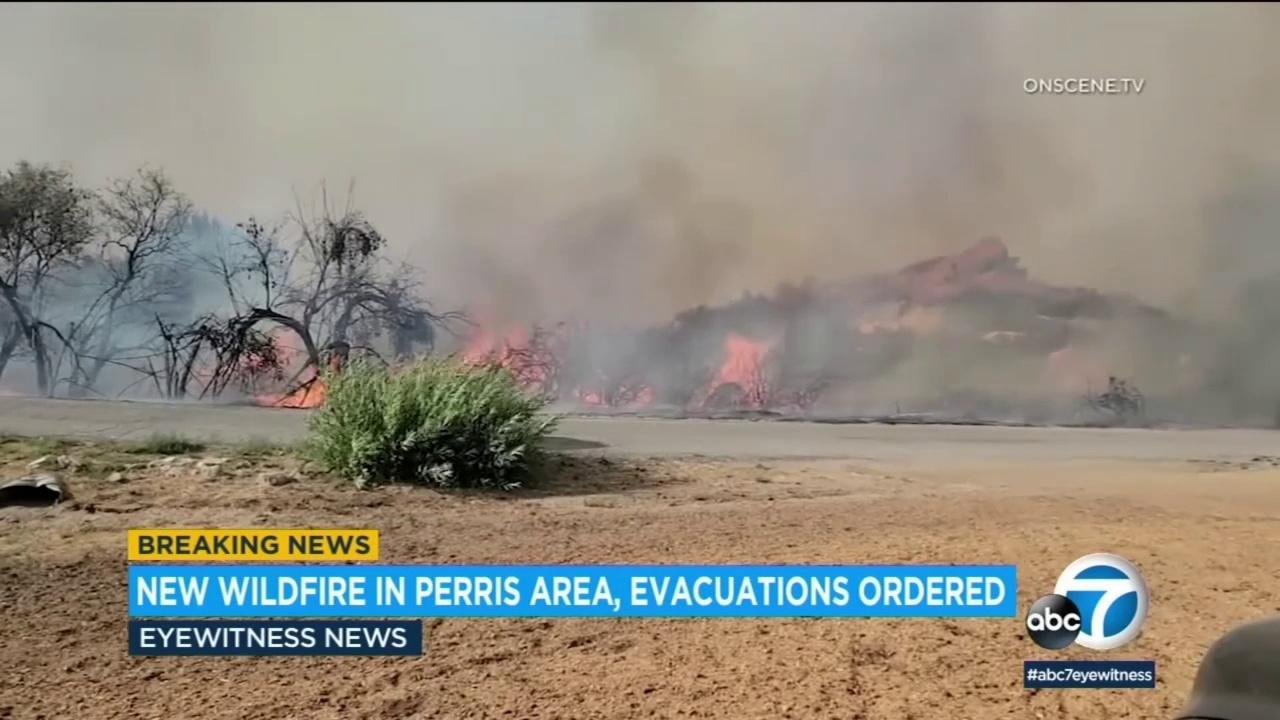fire: (464, 323, 550, 392), (706, 330, 772, 410), (251, 354, 343, 408), (219, 331, 295, 377), (617, 380, 652, 405), (581, 390, 605, 407)
smoke: (0, 2, 1280, 428)
